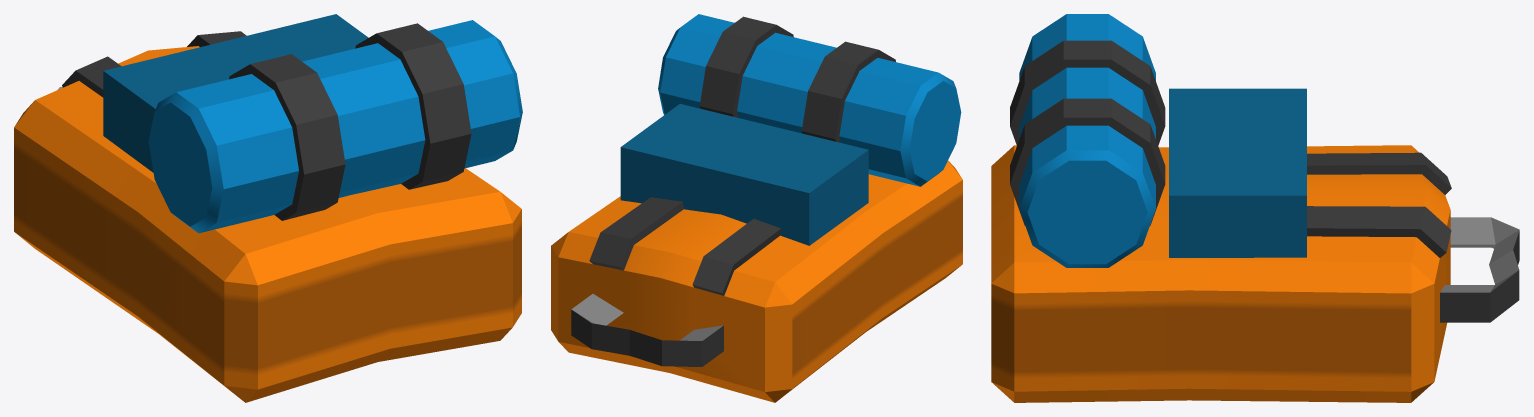
The model's file is model_polytope_backpack.fbx.
The picture shows the model from 3 angles, left to right: view 1: azimuth 30°, elevation 25°; view 2: azimuth 150°, elevation 25°; view 3: azimuth 270°, elevation 25°; orthographic projection. The views are drawn at different scales.
Visible parts, largest first — view 1: model_polytope_backpack; view 2: model_polytope_backpack; view 3: model_polytope_backpack.
Part boxes in pixels (x1,y1,x2,y2): model_polytope_backpack: (14, 14, 522, 402); model_polytope_backpack: (551, 14, 962, 402); model_polytope_backpack: (991, 14, 1519, 402).
Bounding box in the file's own units: 50.27 × 44.45 × 78.6.
